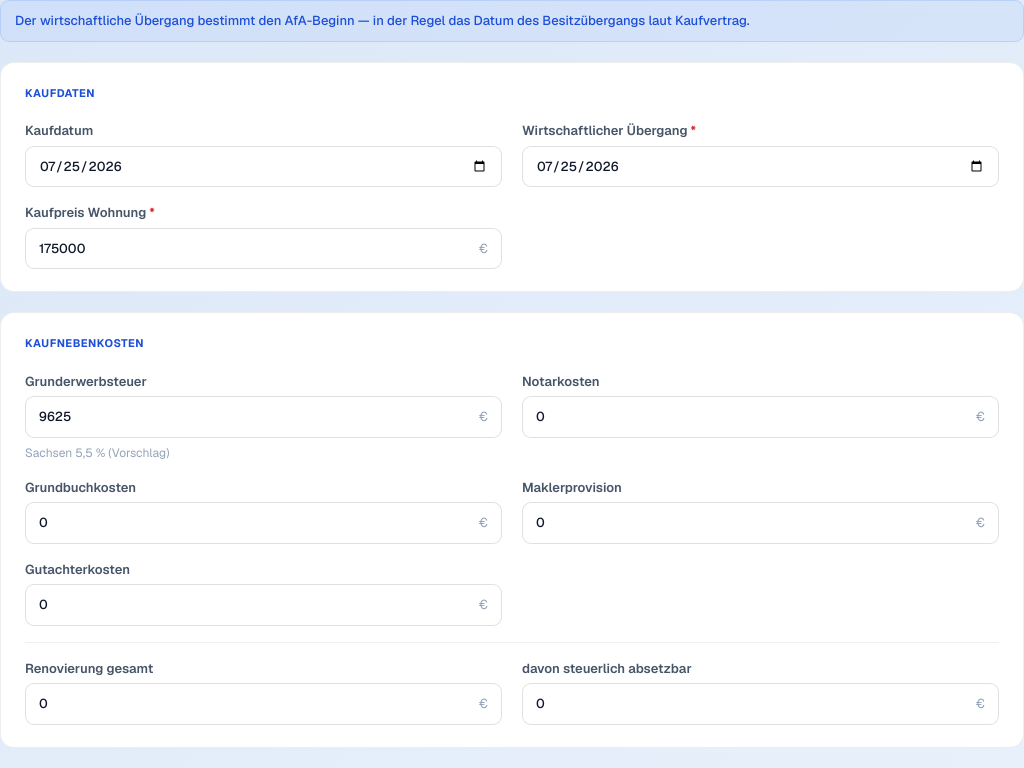
Scenario: StepKauf Grunderwerbsteuer suggestion › recalculates when the purchase price changes
Expected: the number field labelled "Grunderwerbsteuer €" holds "9625", x1=26 y1=397 x2=478 y2=436
Replace the text in the number field labelled "Kaufpreis Wohnung * €" with "200000". click: (252, 248)
box: x1=26 y1=228 x2=478 y2=268
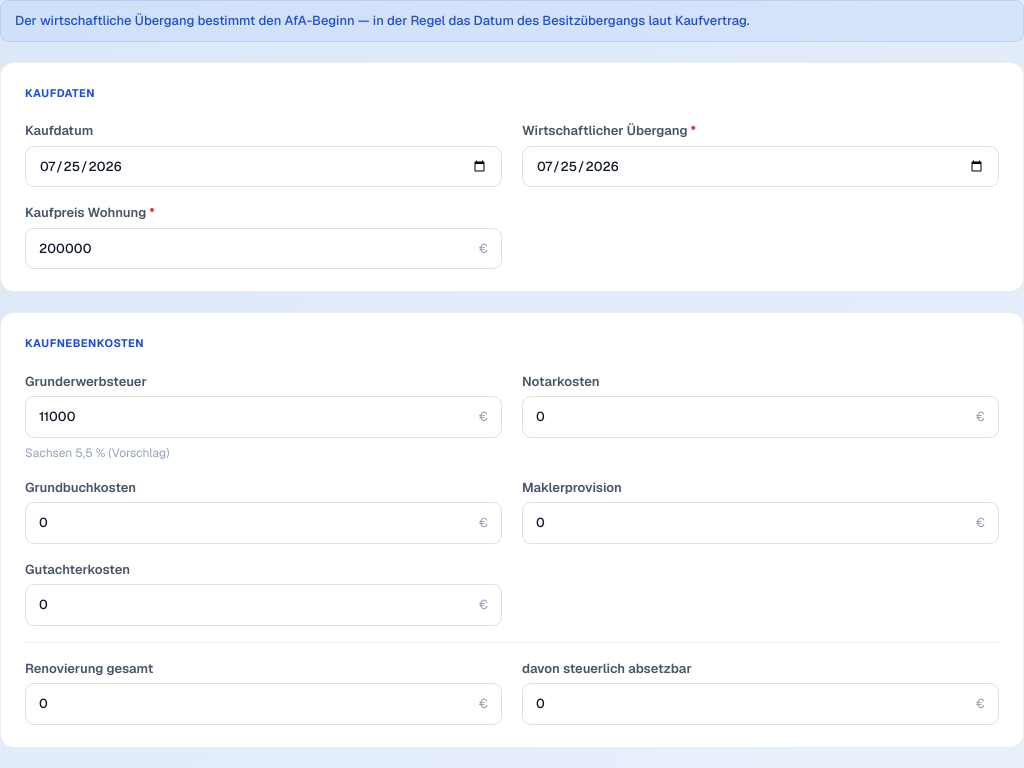
Expected: the number field labelled "Grunderwerbsteuer €" holds "11000", x1=26 y1=397 x2=478 y2=436
